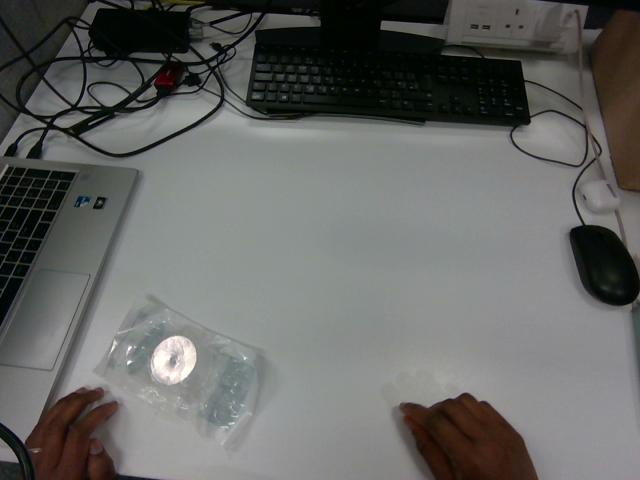gallipot: (96, 299, 257, 445)
